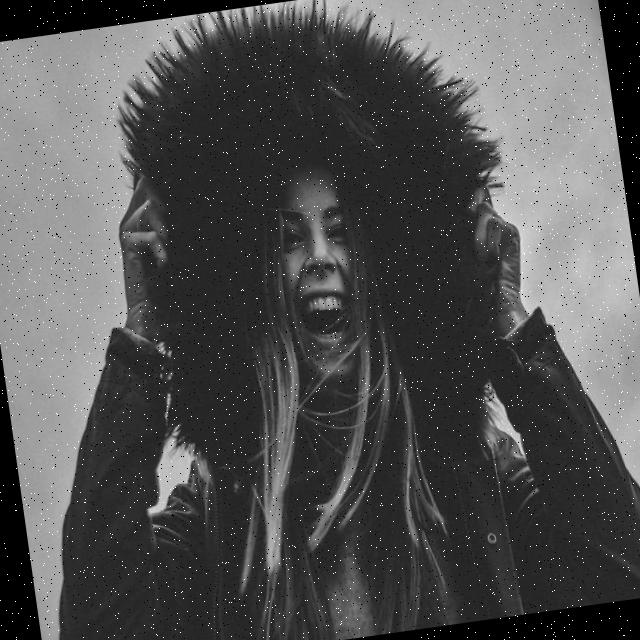Happiness: (250, 160, 386, 394)
